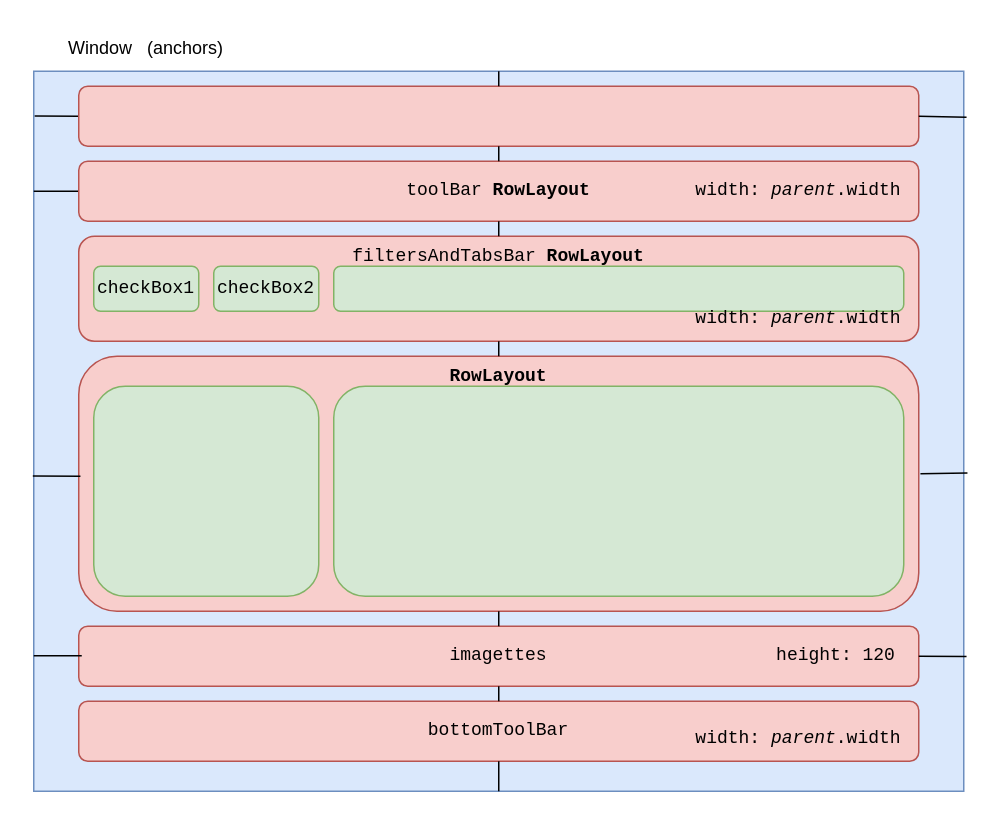
This 995x819 diagram has some shape labels left out. Each missing label, with the centre of its shape:
listViewFrame: [205,490]
menuBar: [498,115]
tabBar: [618,288]
tabbedPage StackLayout: [618,490]
